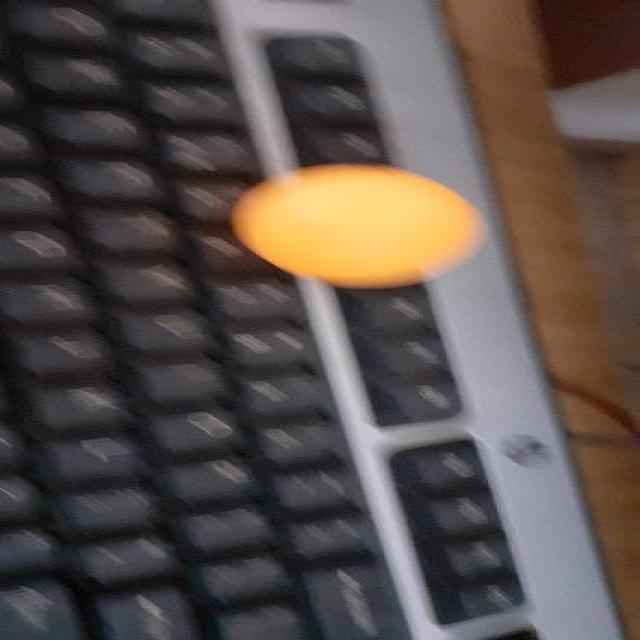oball: (230, 164, 480, 286)
